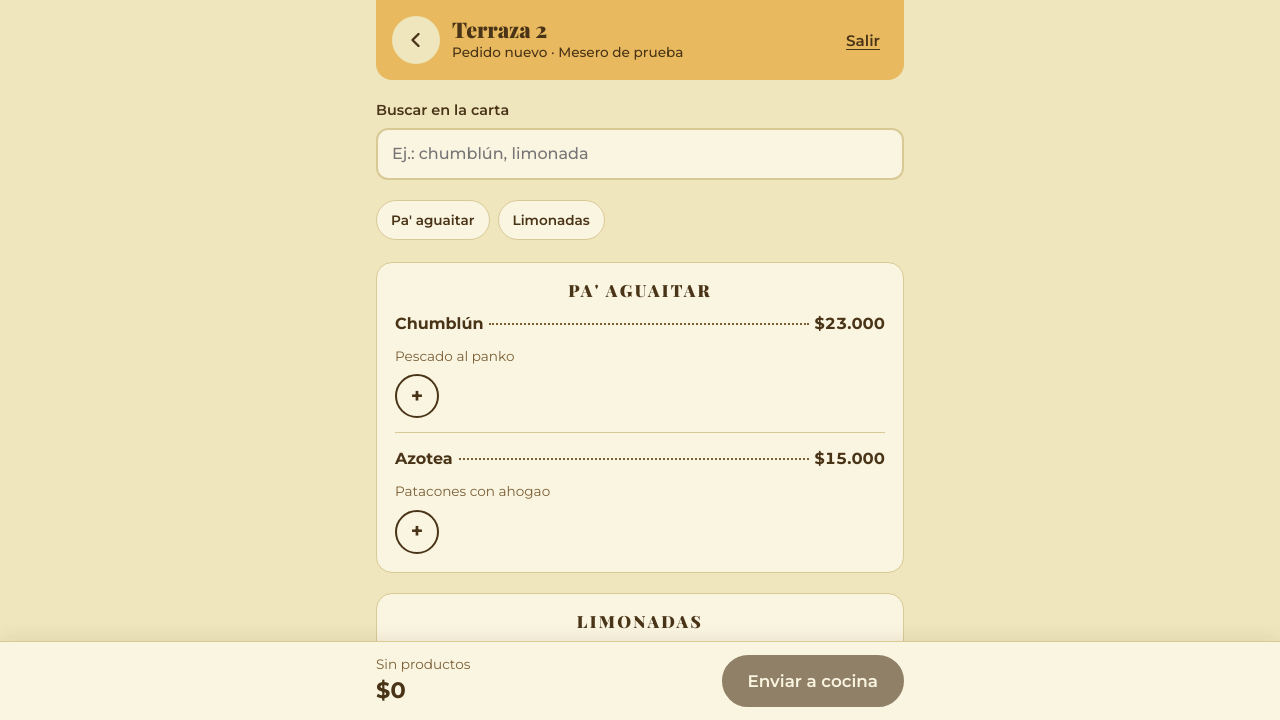
Scenario: Tomar pedido (HU04) › si otro mesero ya abrió la mesa, muestra el error de la API
The width and height of the screenshot is (1280, 720).
What coordinates should you click on to do the following:
click the button named "Agregar Chumblún"
I would click on:
 (417, 396)
Its box is top-left (395, 374), bottom-right (439, 418).
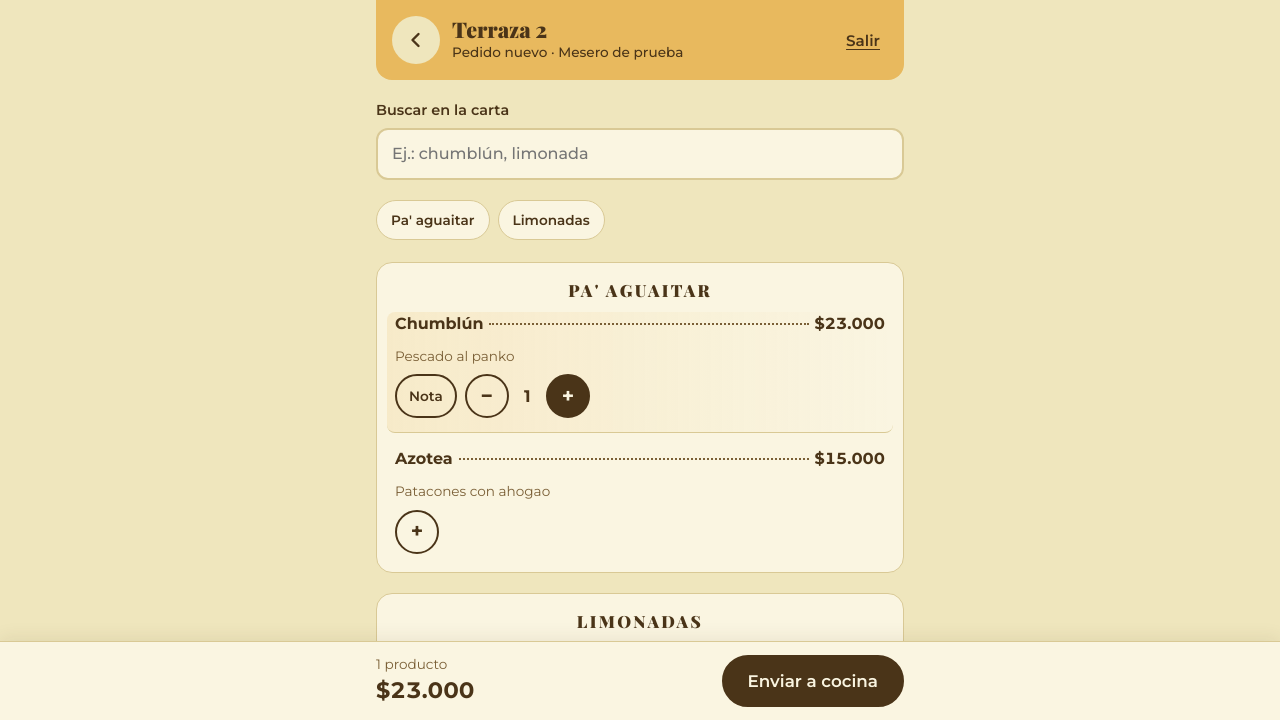
What coordinates should you click on to do the following:
click the button "Enviar a cocina"
I would click on:
 (813, 681)
Its box is top-left (722, 655), bottom-right (904, 707).
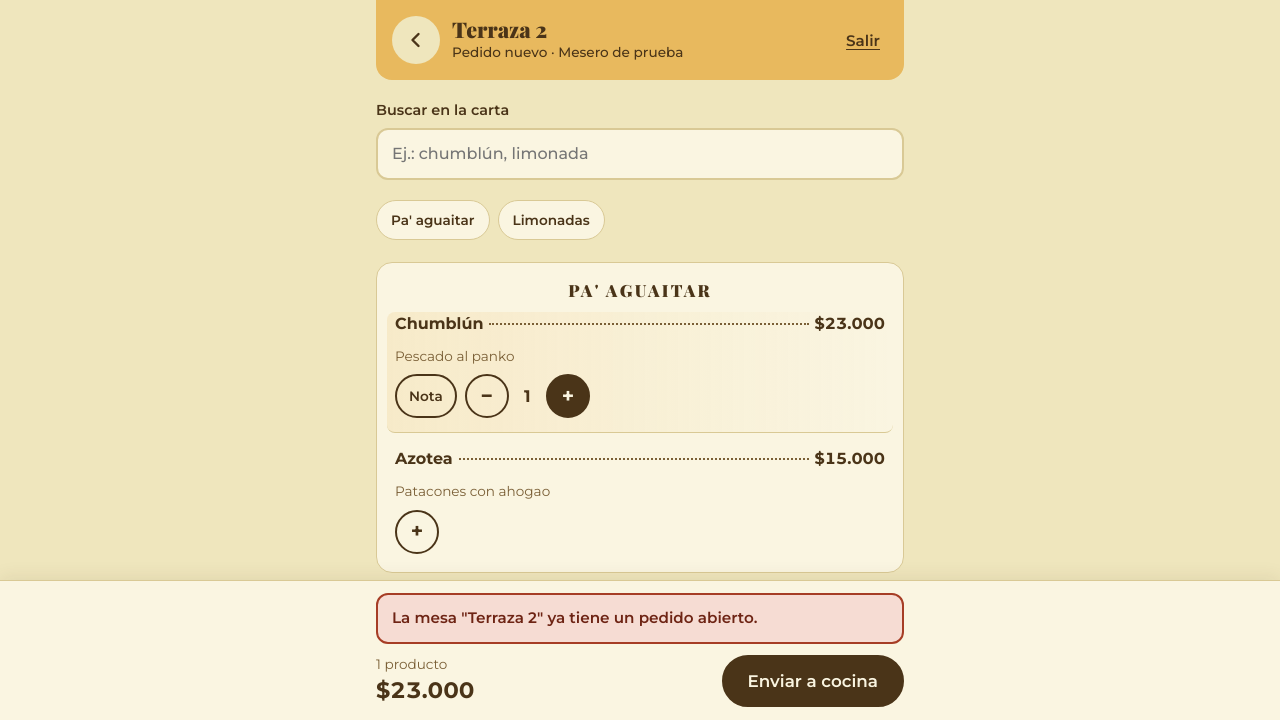
Check: the message shows "ya tiene un pedido abierto", box top-left (392, 608), bottom-right (757, 627)
